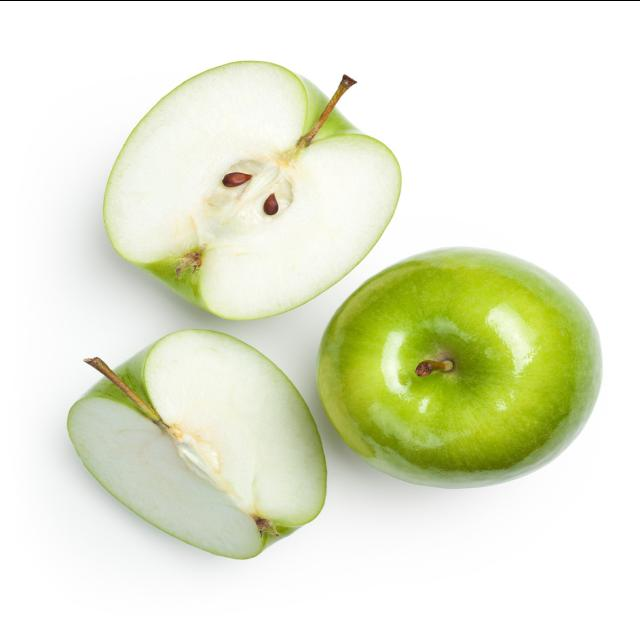Apple: (104, 60, 404, 323), (321, 246, 606, 489), (69, 324, 332, 562)
